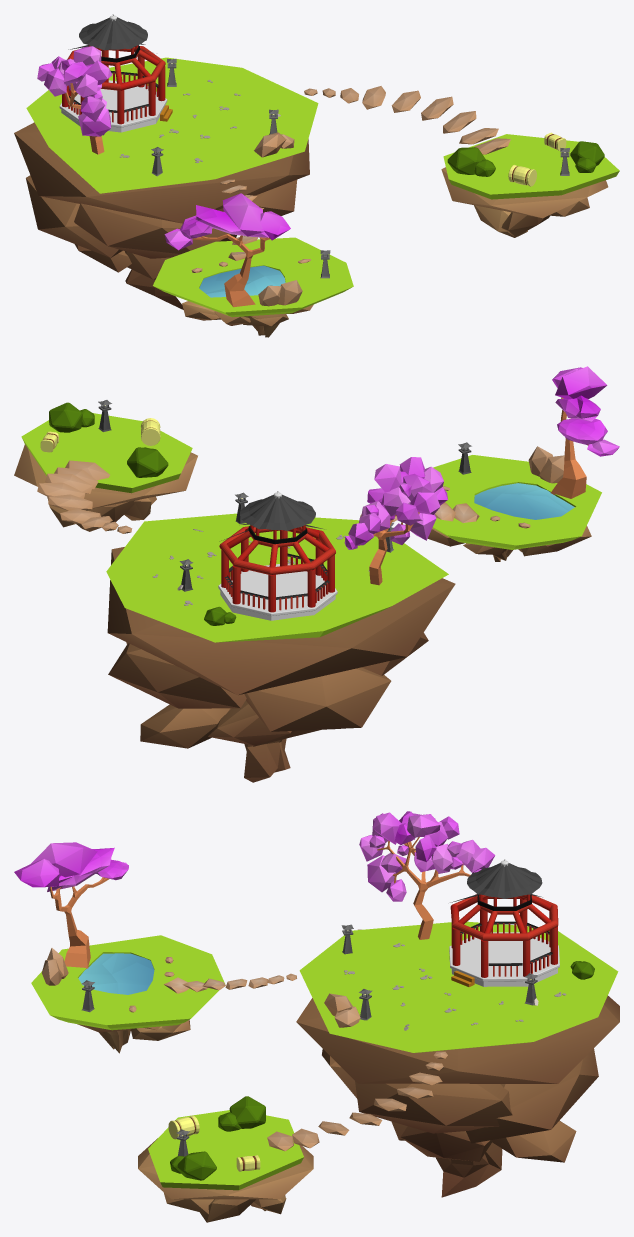
File: floatingIsland.glb
The picture shows the model from 3 angles, top to bottom: view 1: azimuth 30°, elevation 25°; view 2: azimuth 150°, elevation 25°; view 3: azimuth 270°, elevation 25°; orthographic projection. The views are drawn at different scales.
Parts seen in each view (by area): view 1: Vert.002, Icosphere.009, Vert.003, Vert.001, Icosphere.007, Cylinder, Cylinder.016, Plane, Icosphere.017, Vert.004, Icosphere.039, Brush01.001 (+12 smaller); view 2: Icosphere.009, Vert.002, Vert.003, Vert.001, Icosphere.007, Cylinder, Plane, Cylinder.016, Cylinder.009, Icosphere.017, Vert.004, Icosphere.039 (+8 smaller); view 3: Icosphere.009, Vert.002, Vert.003, Vert.001, Icosphere.007, Cylinder, Plane, Cylinder.016, Vert.004, Vert, Icosphere.039, Cylinder.009 (+10 smaller).
Boxes of the visible parts, bbox=[...] form: Vert.002: bbox=[26, 57, 318, 193]; Icosphere.009: bbox=[14, 122, 309, 309]; Vert.003: bbox=[153, 237, 353, 317]; Vert.001: bbox=[443, 134, 619, 199]; Icosphere.007: bbox=[441, 167, 608, 237]; Cylinder: bbox=[59, 80, 167, 132]; Cylinder.016: bbox=[79, 17, 147, 50]; Plane: bbox=[199, 265, 285, 297]; Icosphere.017: bbox=[182, 301, 313, 337]; Vert.004: bbox=[192, 234, 269, 315]; Icosphere.039: bbox=[222, 193, 264, 236]; Brush01.001: bbox=[447, 147, 495, 176]; Icosphere.009: bbox=[107, 547, 455, 782]; Vert.002: bbox=[106, 513, 448, 642]; Vert.003: bbox=[432, 455, 601, 549]; Vert.001: bbox=[21, 413, 192, 493]; Icosphere.007: bbox=[14, 444, 197, 531]; Cylinder: bbox=[218, 564, 337, 620]; Plane: bbox=[474, 483, 574, 519]; Cylinder.016: bbox=[240, 494, 315, 530]; Cylinder.009: bbox=[219, 526, 335, 575]; Icosphere.017: bbox=[428, 526, 591, 561]; Vert.004: bbox=[551, 397, 588, 498]; Icosphere.039: bbox=[555, 366, 607, 398]; Icosphere.009: bbox=[296, 929, 619, 1197]; Vert.002: bbox=[299, 921, 618, 1052]; Vert.003: bbox=[31, 935, 224, 1030]; Vert.001: bbox=[148, 1110, 303, 1190]; Icosphere.007: bbox=[138, 1138, 313, 1222]; Cylinder: bbox=[449, 932, 559, 986]; Plane: bbox=[78, 953, 154, 994]; Cylinder.016: bbox=[467, 863, 542, 898]; Vert.004: bbox=[50, 877, 109, 968]; Vert: bbox=[377, 836, 470, 939]; Icosphere.039: bbox=[30, 842, 97, 877]; Cylinder.009: bbox=[450, 894, 558, 940].
Size of the model in its own units: 73.42 by 43.41 by 73.1.
Materials: 14 (10 with a texture image).
